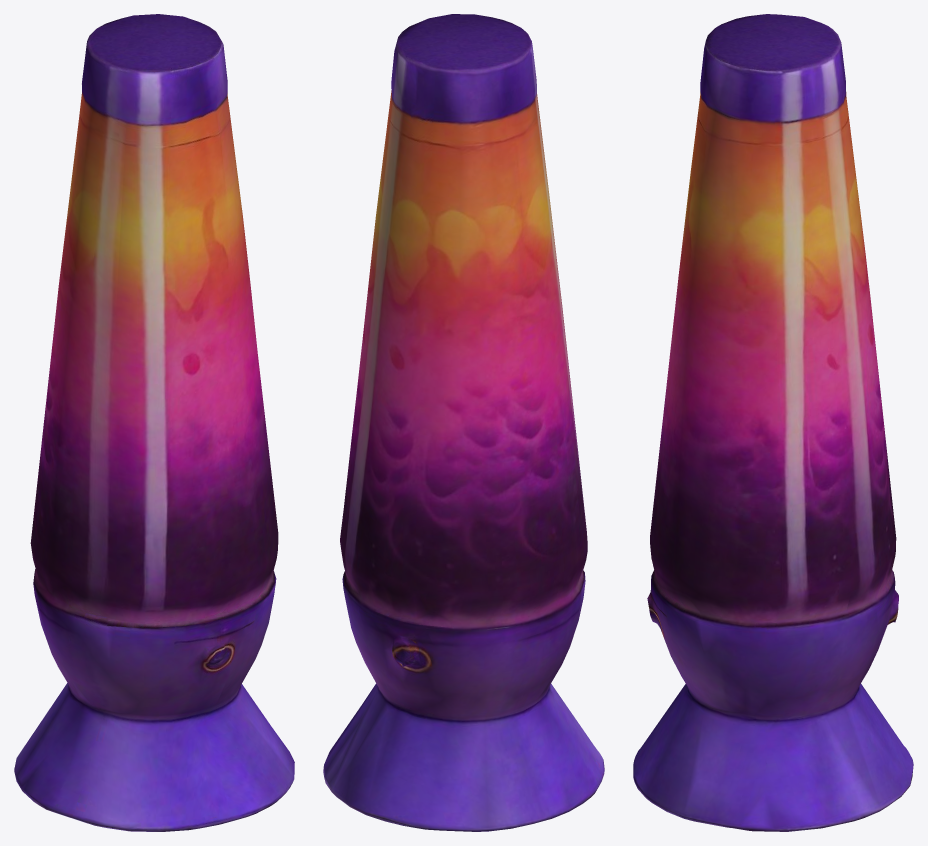
File: moonLamp.glb
The picture shows the model from 3 angles, left to right: view 1: azimuth 30°, elevation 25°; view 2: azimuth 150°, elevation 25°; view 3: azimuth 270°, elevation 25°; orthographic projection.
Size of the model in its own units: 0.3429 by 1 by 0.3425.
Materials: 1 (1 with a texture image).
